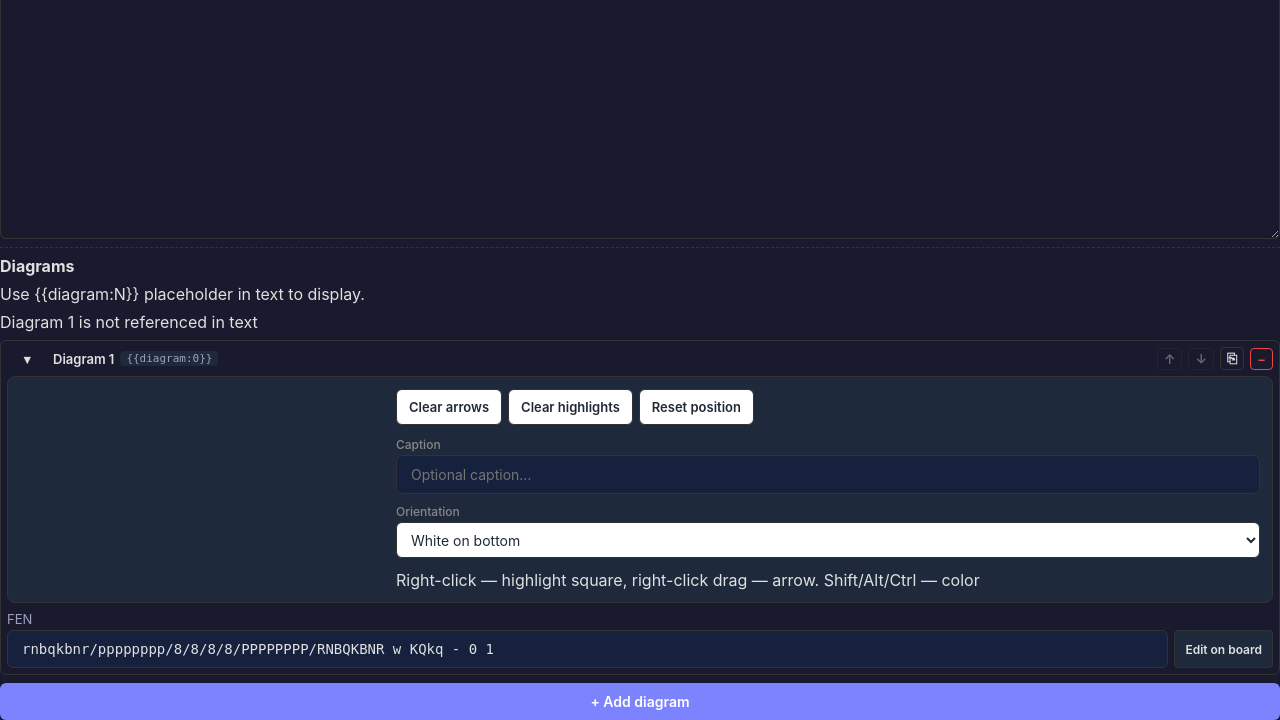
it: <TextFields> board editor › Cancel закрывает модалку и НЕ меняет diagrams
The width and height of the screenshot is (1280, 720).
(page scrolled)
Click the button with test id "editor-diagram-edit-board-0" at coordinates (1224, 649), box top-left (1174, 630), bottom-right (1273, 668)
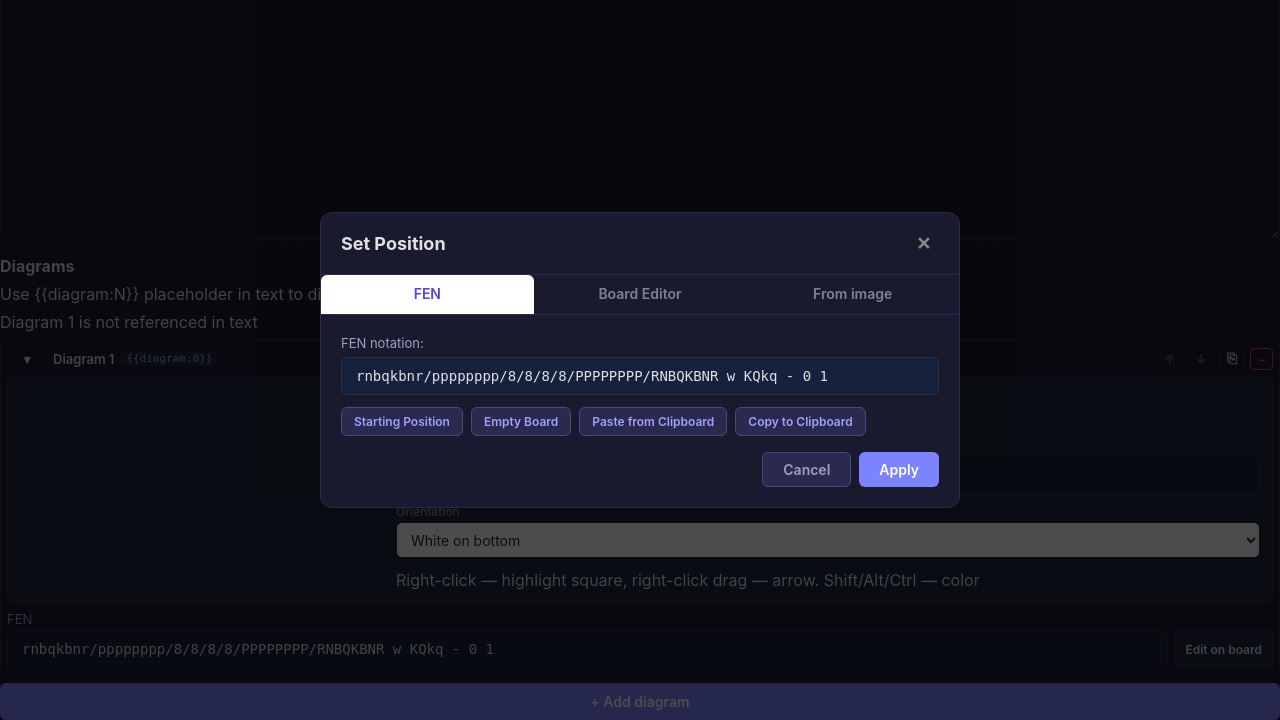
Note: редактируем FEN, но затем Cancel
Type "8/8/8/8/8/8/8/8 w - - 0 1" into the field showing "rnbqkbnr/pppppppp/8/8/8/8/PPPPPPPP/RNBQKBNR w KQkq - 0 1" at coordinates (640, 376), box top-left (341, 357), bottom-right (939, 395)
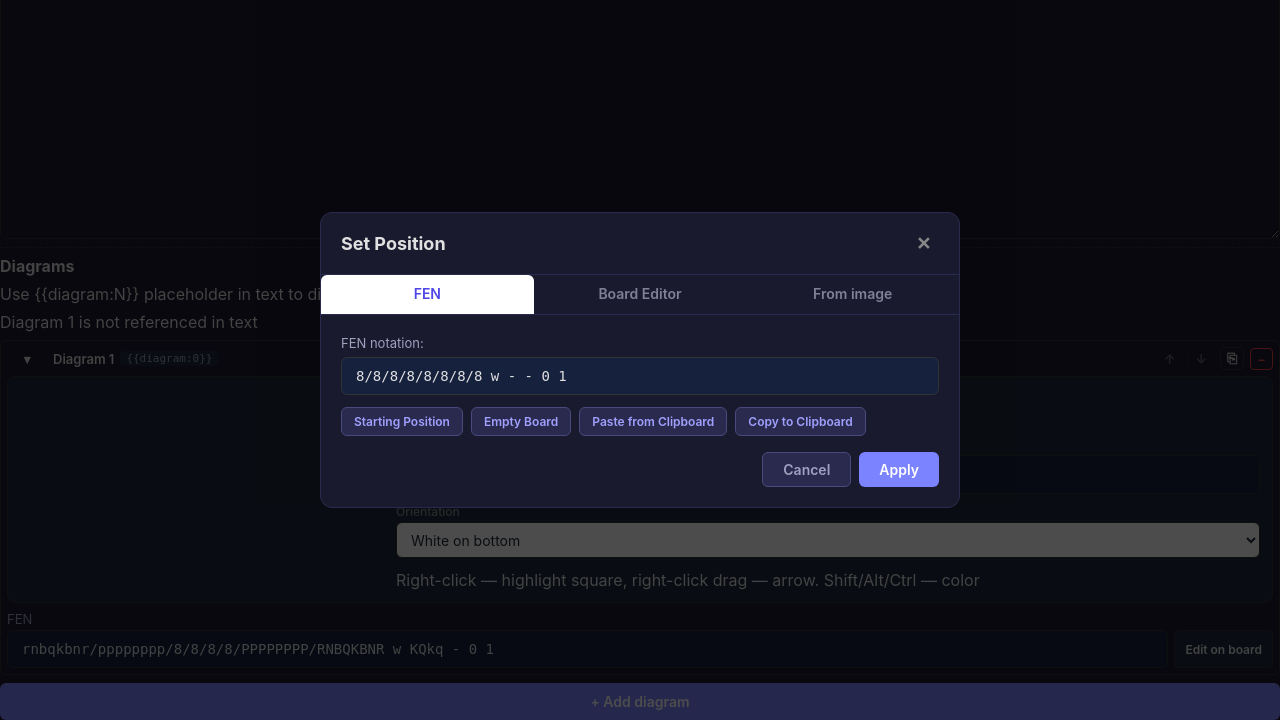
Click the button "Cancel" at coordinates (807, 470), box top-left (762, 452), bottom-right (851, 487)
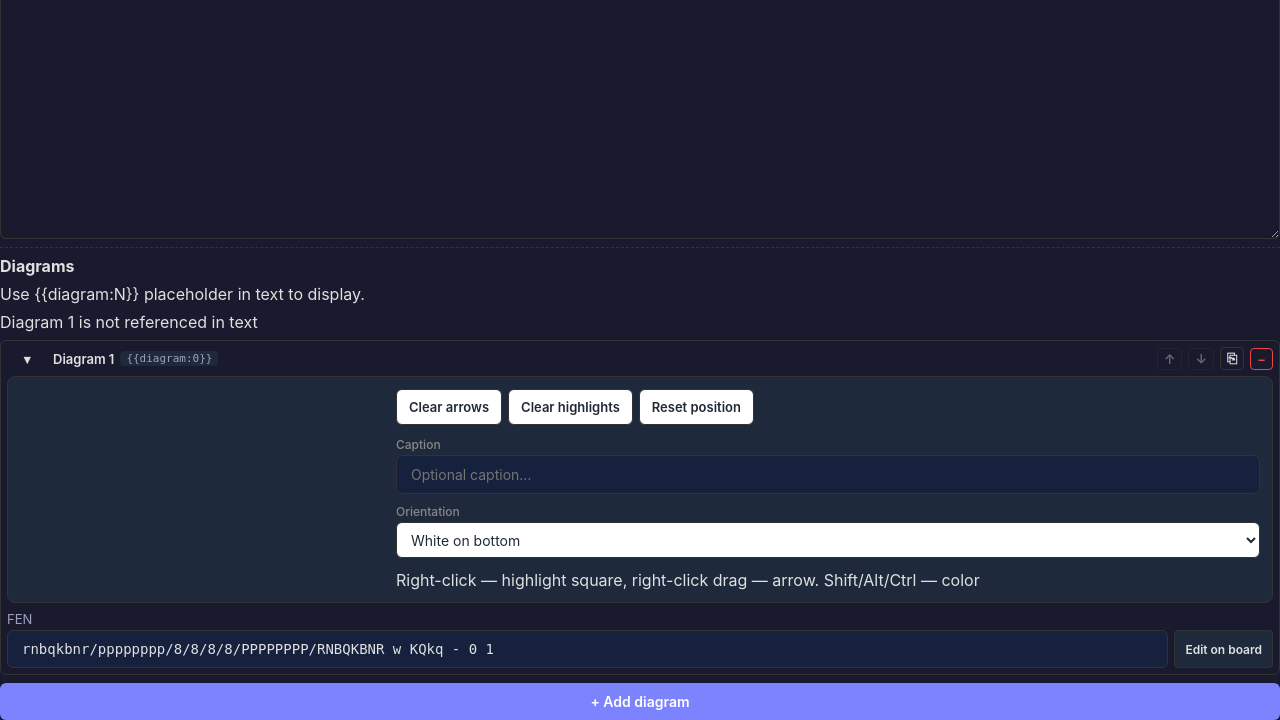
Now the element with class "set-position-modal" is gone
